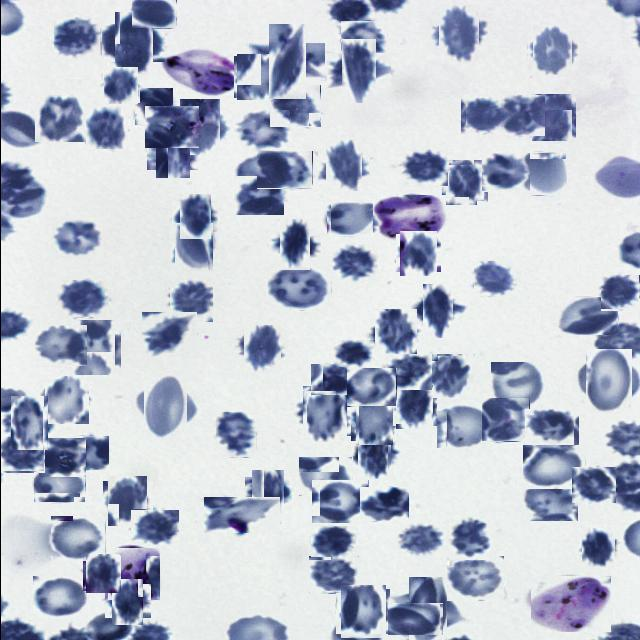red blood cell: (258, 34, 314, 90), (580, 353, 635, 409), (400, 584, 454, 639), (267, 265, 331, 311), (138, 379, 192, 433), (203, 497, 279, 533), (522, 445, 584, 489), (446, 556, 504, 602), (490, 362, 545, 410), (50, 516, 105, 562), (141, 312, 196, 358), (311, 480, 368, 524), (108, 18, 158, 68), (298, 389, 348, 439), (436, 405, 492, 449), (67, 322, 116, 372), (34, 94, 84, 143), (337, 587, 387, 636), (333, 46, 383, 95), (434, 9, 483, 58), (32, 576, 87, 618), (522, 479, 577, 521), (175, 102, 223, 150), (557, 297, 617, 335), (144, 106, 198, 148), (236, 153, 291, 194), (51, 217, 103, 260), (34, 325, 87, 367), (42, 377, 89, 423), (269, 85, 320, 127), (256, 151, 312, 189), (104, 478, 150, 524), (428, 352, 474, 398), (481, 398, 529, 442), (298, 457, 352, 496), (372, 310, 418, 355), (6, 401, 52, 446), (235, 110, 289, 148), (524, 409, 579, 446), (234, 54, 278, 100), (53, 17, 100, 60), (346, 368, 396, 407), (233, 176, 283, 215), (57, 280, 108, 318), (530, 28, 574, 72), (240, 327, 284, 371), (321, 144, 365, 188), (530, 96, 574, 140), (481, 153, 530, 192), (308, 556, 358, 594), (171, 225, 215, 268), (215, 412, 256, 458), (169, 279, 212, 322), (449, 516, 491, 560), (38, 438, 85, 477), (33, 468, 85, 503), (387, 603, 442, 636), (524, 152, 566, 195), (84, 107, 127, 149), (150, 132, 193, 174), (401, 149, 448, 187), (443, 162, 485, 204), (352, 402, 394, 444), (396, 232, 438, 274), (416, 290, 458, 332), (332, 244, 377, 283), (326, 202, 377, 236), (460, 98, 508, 134), (130, 508, 178, 544), (383, 354, 431, 390), (502, 95, 544, 136), (393, 387, 434, 428), (354, 434, 394, 476), (274, 224, 314, 266), (359, 487, 408, 521), (340, 21, 386, 56), (248, 474, 288, 514), (571, 467, 615, 503), (310, 364, 359, 396), (0, 437, 44, 472), (108, 582, 146, 622), (473, 261, 516, 296), (175, 197, 213, 236), (310, 526, 356, 558), (399, 524, 445, 556), (134, 88, 172, 125), (83, 555, 121, 592), (600, 274, 639, 310), (69, 436, 108, 470), (131, 0, 176, 29), (580, 529, 616, 565), (102, 68, 138, 104), (333, 340, 374, 368)
trophozoite: (530, 576, 610, 632), (162, 49, 240, 96), (372, 195, 445, 242), (106, 548, 158, 600)
